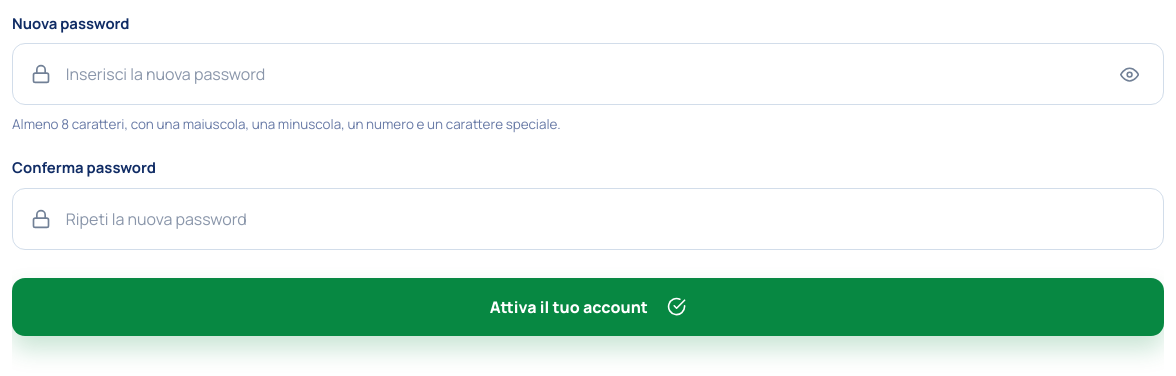
Test: ResetPasswordForm › modalità attivazione › conferma l'attivazione, non l'aggiornamento password
Type "Password1!" into the password field labelled "Nuova password" at [583, 74], box [66, 62, 1100, 86]
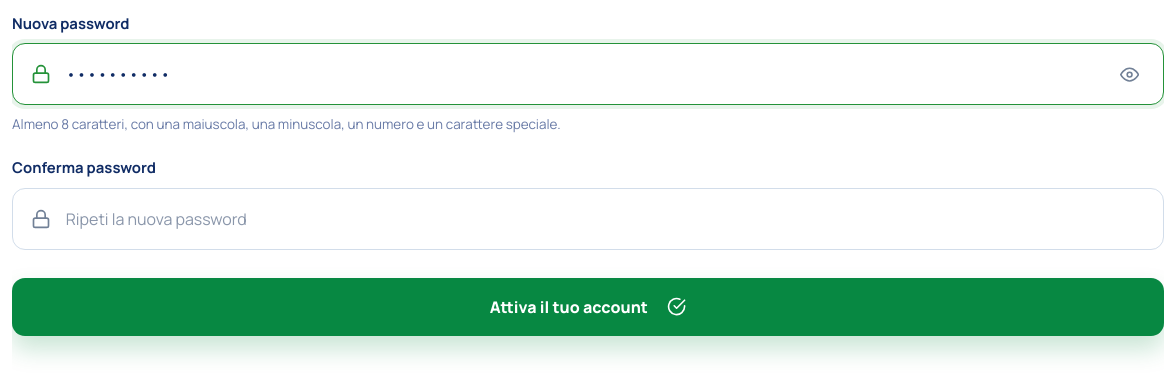
Type "Password1!" into the password field labelled "Conferma password" at [605, 219], box [66, 207, 1145, 231]
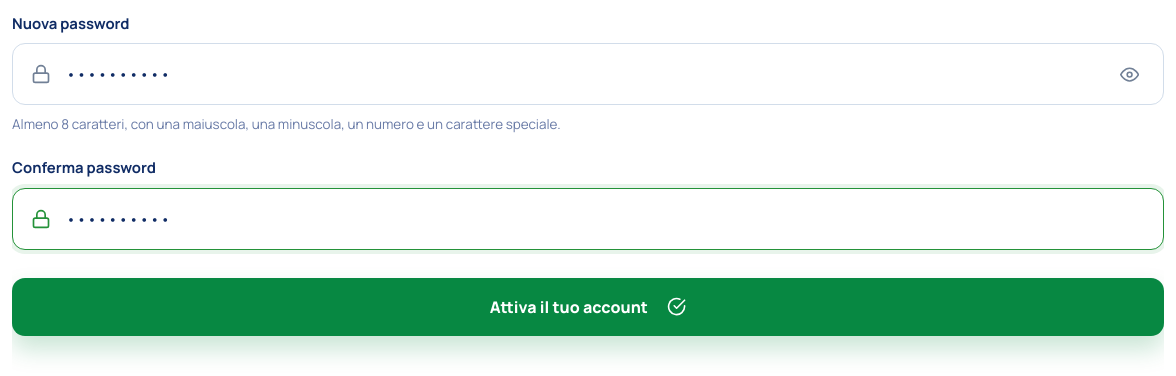
Click the button "Attiva il tuo account" at [588, 306], box [12, 278, 1164, 336]
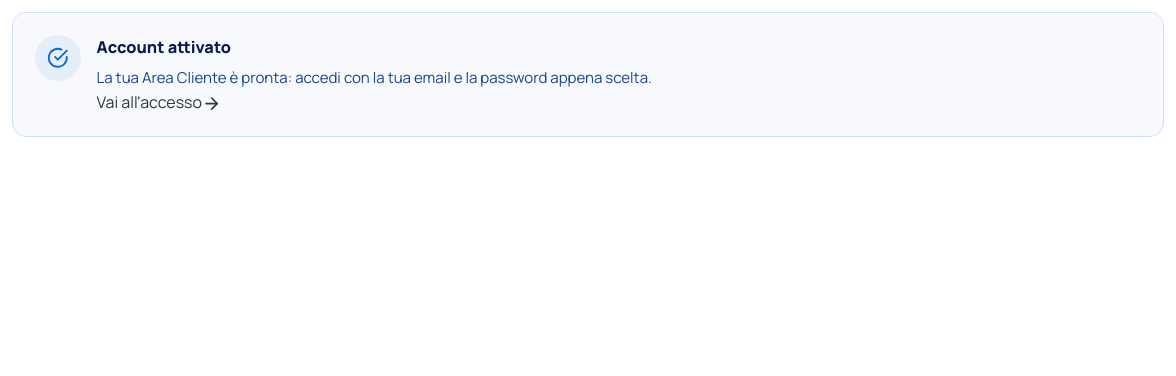
expect the message shows "Account attivato": met, box [97, 36, 231, 58]
